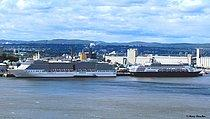Ship: (6, 54, 120, 83)
